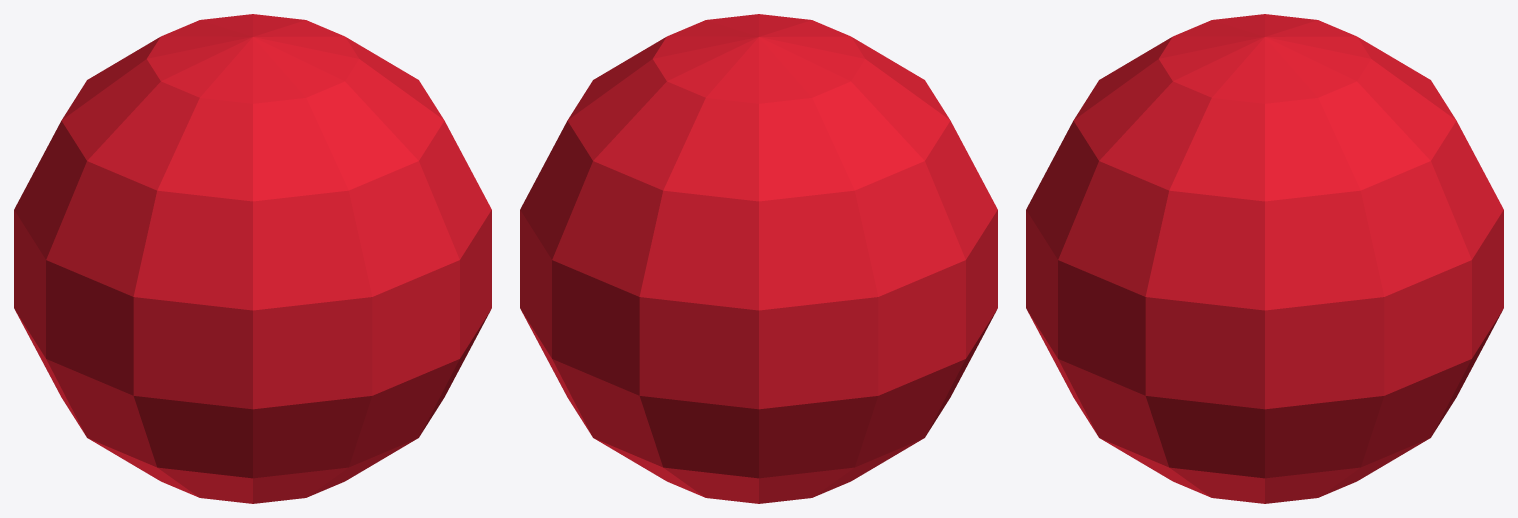
Rendered from enemyProjectile.fbx.
3 renders of one model, left to right at view 1: azimuth 30°, elevation 25°; view 2: azimuth 150°, elevation 25°; view 3: azimuth 270°, elevation 25°, orthographic.
Parts seen in each view (by area): view 1: enemyProjectile; view 2: enemyProjectile; view 3: enemyProjectile.
Boxes of the visible parts, x1,y1,x2,y2 form: enemyProjectile: [14, 14, 491, 503]; enemyProjectile: [520, 14, 997, 503]; enemyProjectile: [1026, 14, 1503, 503].
Bounding box in the file's own units: 195 × 200 × 195.
